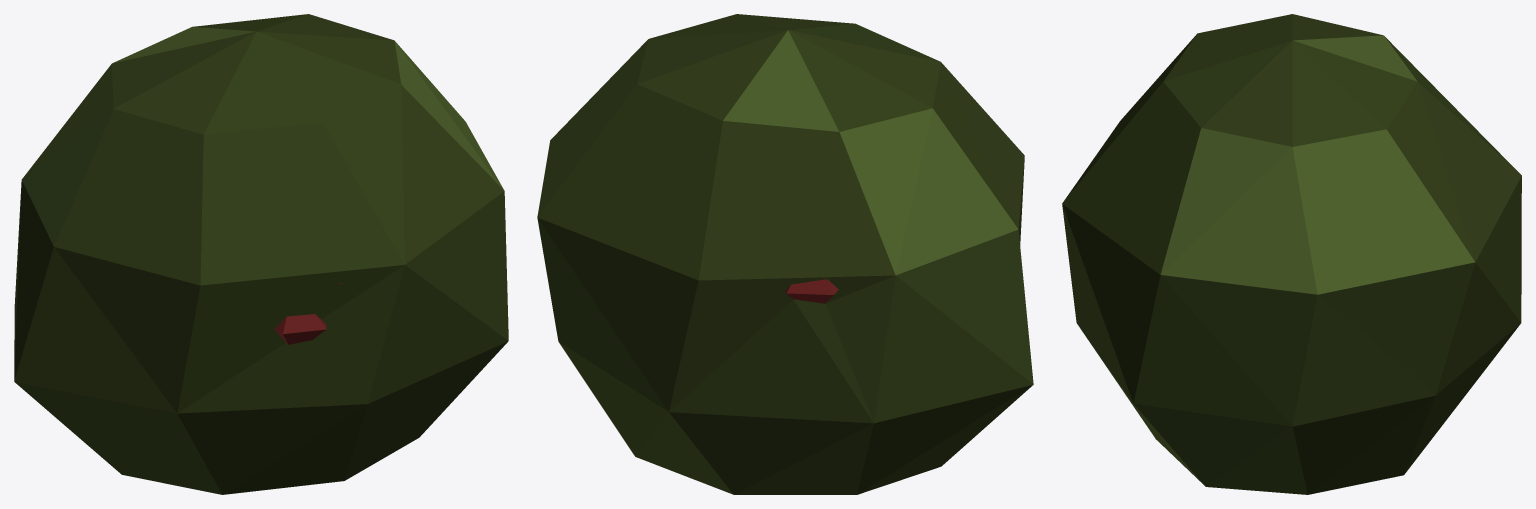
The model's file is Bush_Berry_01.fbx.
3 renders of one model, left to right at view 1: azimuth 30°, elevation 25°; view 2: azimuth 150°, elevation 25°; view 3: azimuth 270°, elevation 25°, orthographic. The views are drawn at different scales.
Parts seen in each view (by area): view 1: Bush_Berry_01_Mesh; view 2: Bush_Berry_01_Mesh; view 3: Bush_Berry_01_Mesh.
Part boxes in pixels (x1,y1,x2,y2): Bush_Berry_01_Mesh: (14, 14, 508, 494); Bush_Berry_01_Mesh: (537, 14, 1033, 494); Bush_Berry_01_Mesh: (1062, 14, 1521, 494).
Size of the model in its own units: 0.9093 by 0.832 by 0.803.
1 material, 1 textured.
